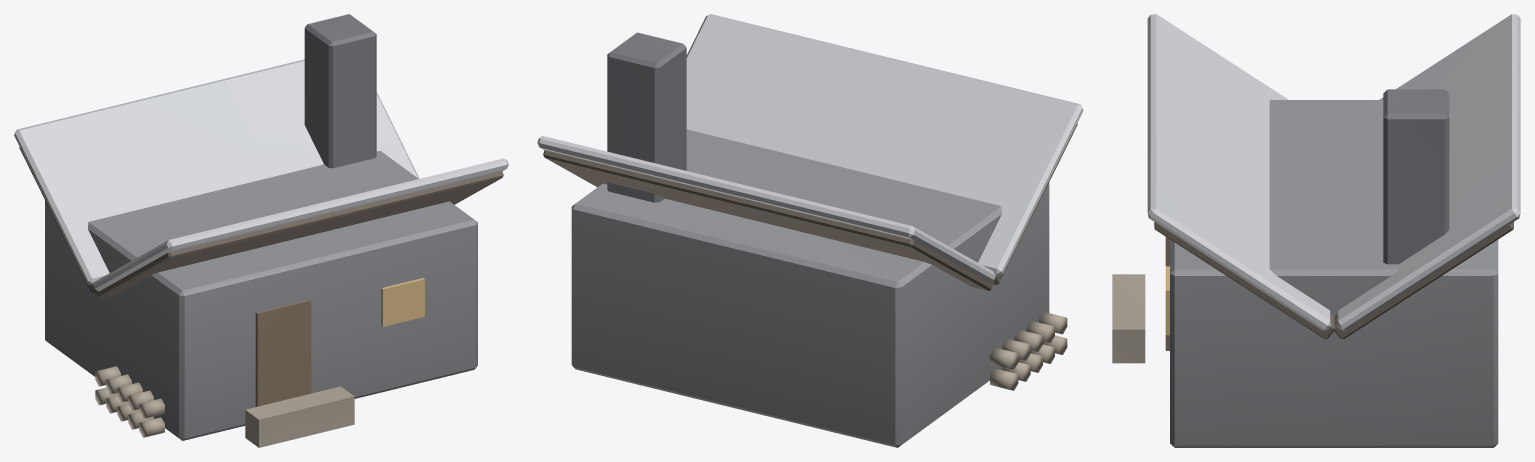
File: gamekeeper_hut.glb
3 renders of one model, left to right at view 1: azimuth 30°, elevation 25°; view 2: azimuth 150°, elevation 25°; view 3: azimuth 270°, elevation 25°, orthographic. The views are drawn at different scales.
Visible parts, largest first — view 1: gamekeeper_hut; view 2: gamekeeper_hut; view 3: gamekeeper_hut.
Part boxes in pixels (x1=…): gamekeeper_hut: x1=14, y1=14, x2=508, y2=447; gamekeeper_hut: x1=537, y1=14, x2=1083, y2=447; gamekeeper_hut: x1=1112, y1=14, x2=1520, y2=447.
Size of the model in its own units: 5.75 by 4.4 by 4.97.
